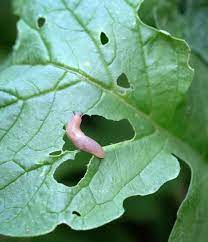slug: (66, 112, 106, 158)
